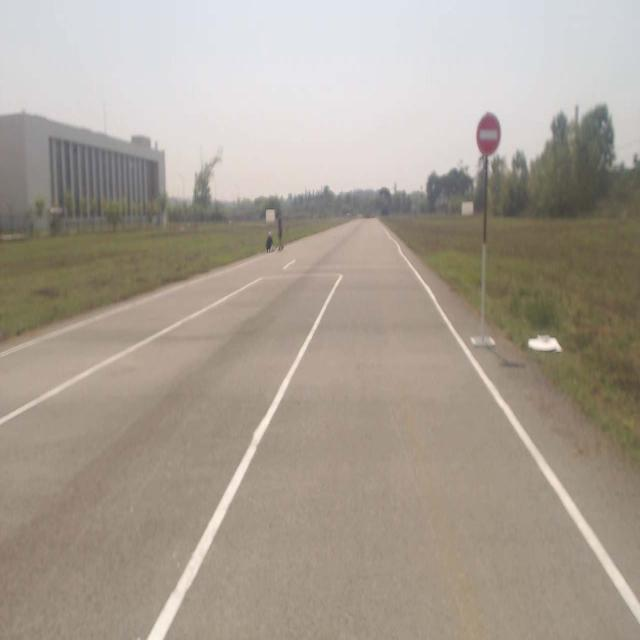girisyok: (477, 111, 501, 156)
